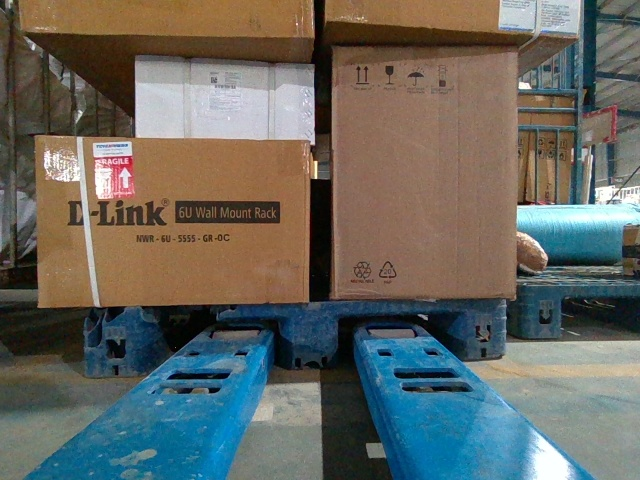block: (83, 308, 151, 380), (281, 303, 336, 369), (463, 298, 505, 362), (521, 285, 559, 339)
front: (84, 299, 506, 375)
hole pallet: (148, 311, 292, 375), (333, 308, 467, 368), (559, 297, 639, 337)
